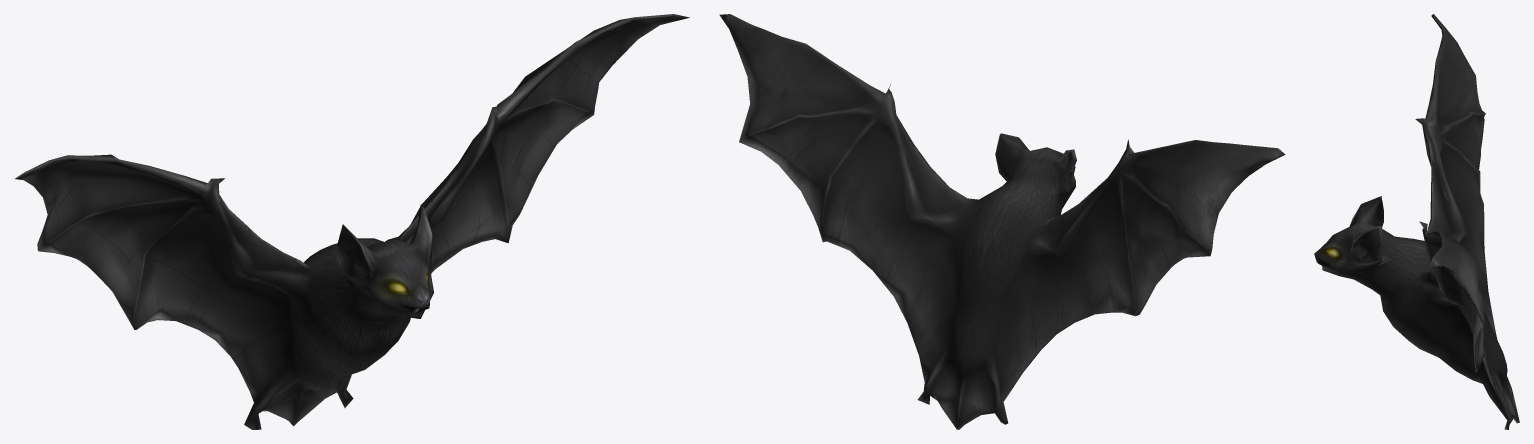
The model's file is bat.glb.
3 views of the same model, side by side, from view 1: azimuth 30°, elevation 25°; view 2: azimuth 150°, elevation 25°; view 3: azimuth 270°, elevation 25° (orthographic). The views are drawn at different scales.
Size of the model in its own units: 1.88 by 0.9954 by 0.6445.
1 material, 1 textured.
